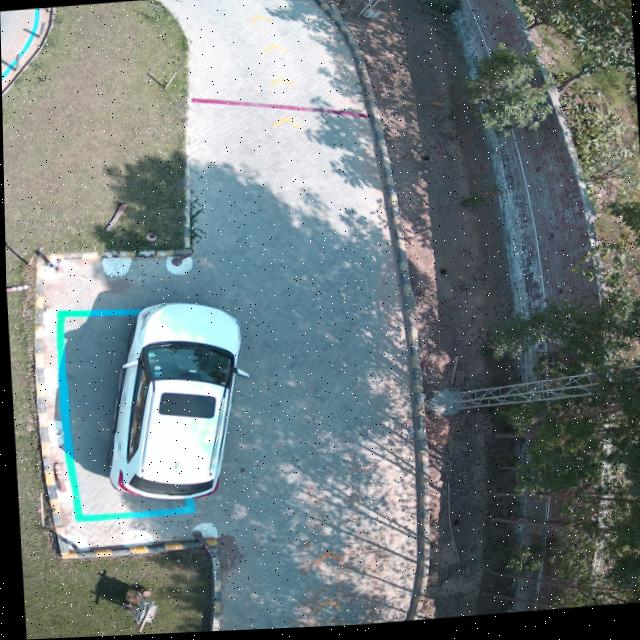car: (104, 305, 235, 508)
